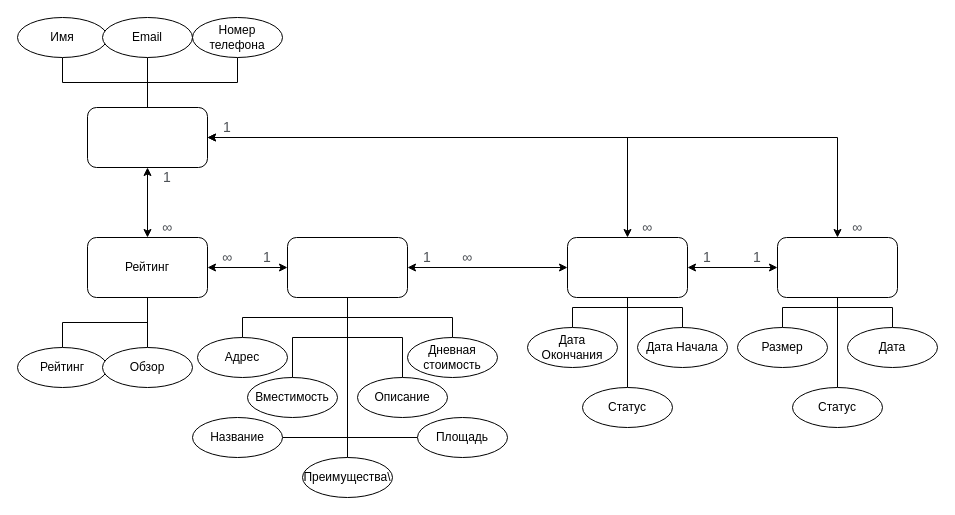
Some shapes in this 955 by 515 pixel diagram are drawn without their labels. The shapes that lost their labels are listed below. From the top down, each one's centre as x and y in pixels, then its label:
the point at 147,137: Пользователь
the point at 347,267: Пространство
the point at 627,267: Бронирование
the point at 837,267: Платёж
